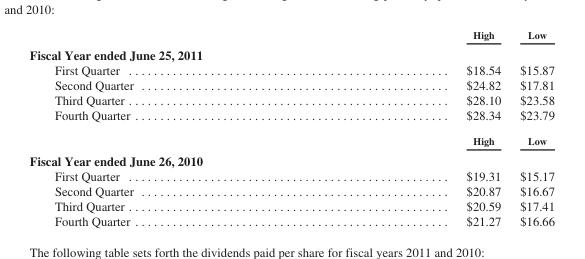table: (28, 29, 553, 228)
table column: (28, 29, 299, 228), (299, 29, 509, 228), (509, 29, 553, 228)
table column header: (28, 29, 553, 43)
table projected row header: (28, 43, 553, 61), (28, 149, 553, 167)
table row: (28, 107, 553, 128), (28, 128, 553, 149), (28, 43, 553, 61), (28, 149, 553, 167), (28, 61, 553, 77), (28, 167, 553, 183), (28, 77, 553, 92), (28, 92, 553, 107), (28, 183, 553, 198), (28, 198, 553, 213), (28, 213, 553, 228), (28, 29, 553, 43)
